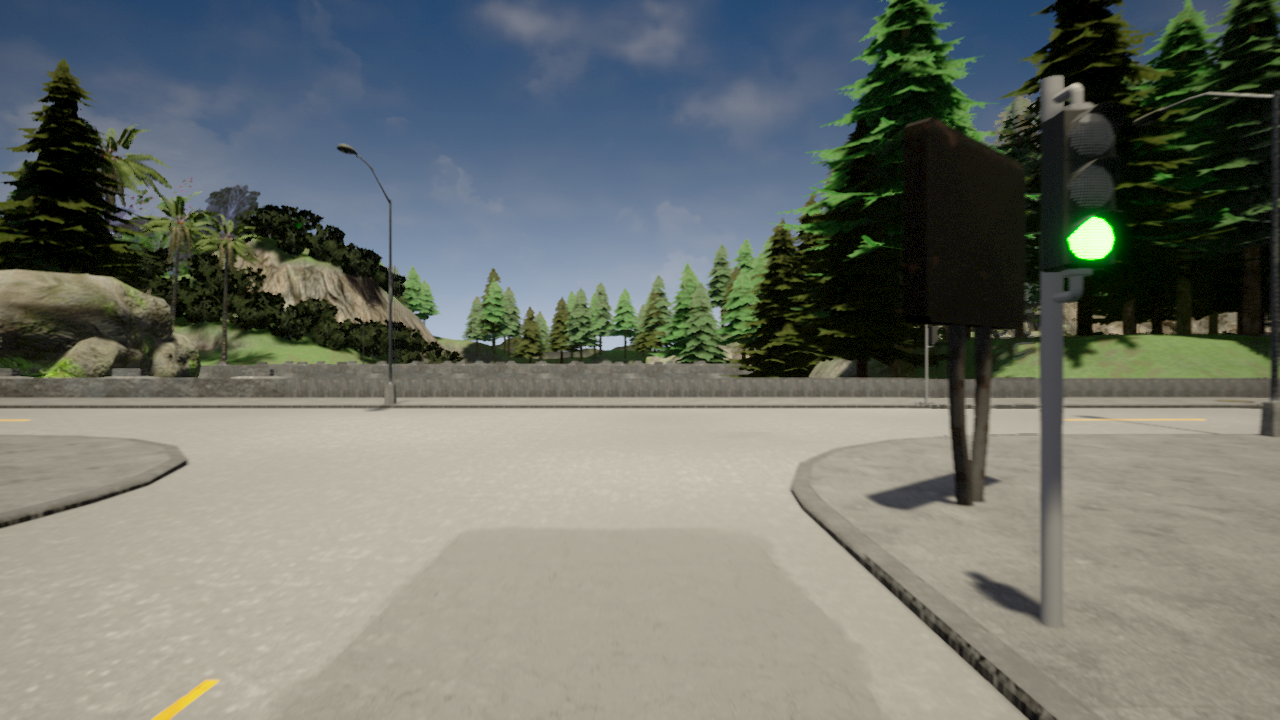green: (1041, 99, 1128, 282)
